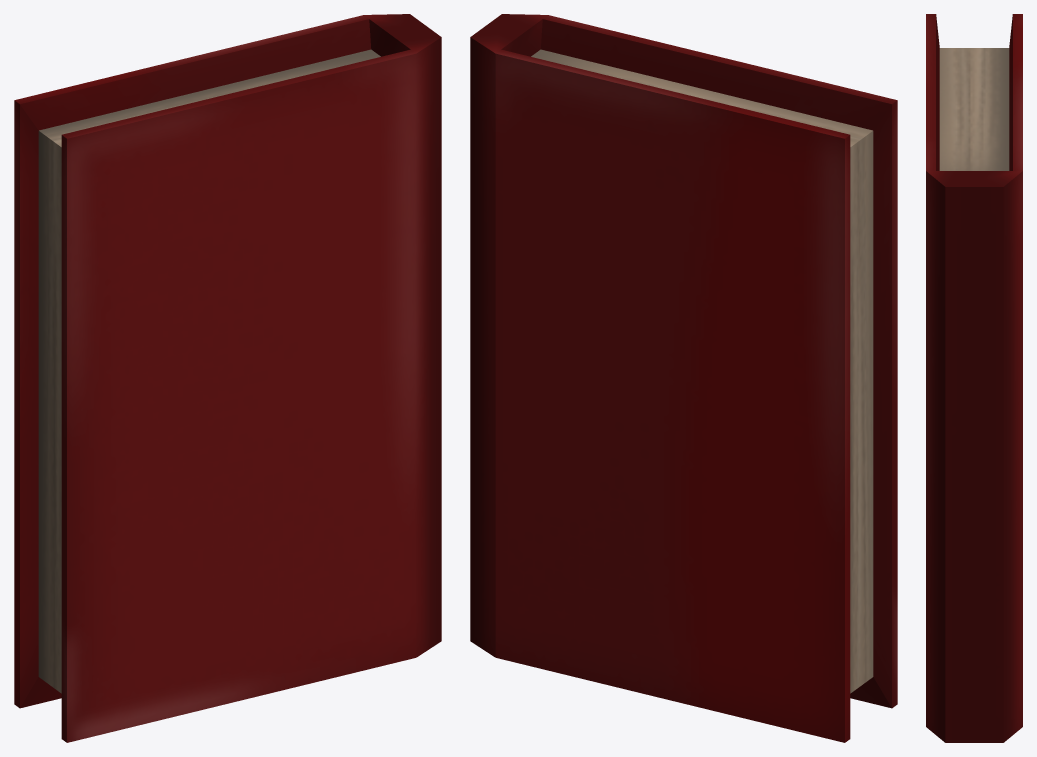
Rendered from SM_book02.fbx.
3 views of the same model, side by side, from view 1: azimuth 30°, elevation 25°; view 2: azimuth 150°, elevation 25°; view 3: azimuth 270°, elevation 25° (orthographic). The views are drawn at different scales.
Parts seen in each view (by area): view 1: SM_book02; view 2: SM_book02; view 3: SM_book02.
Boxes of the visible parts, x1,y1,x2,y2 form: SM_book02: [14, 14, 441, 742]; SM_book02: [470, 14, 897, 742]; SM_book02: [926, 14, 1022, 742].
Size of the model in its own units: 0.6161 by 0.9236 by 0.146.
